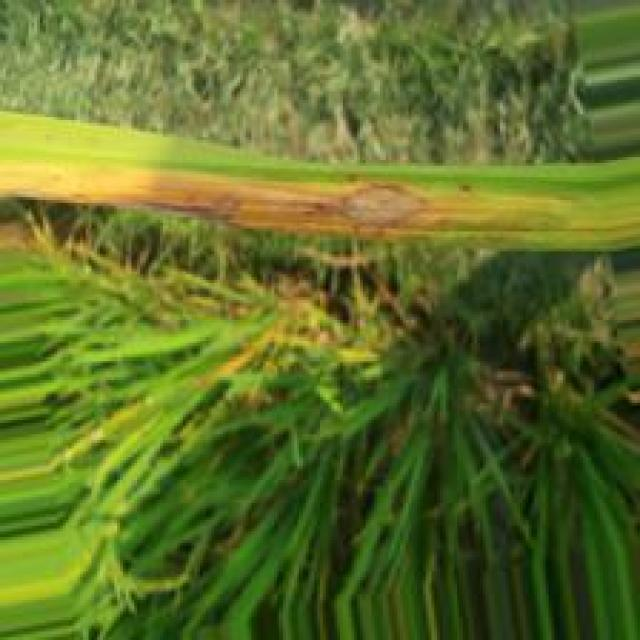Leaf_Blast: (1, 170, 433, 231)
